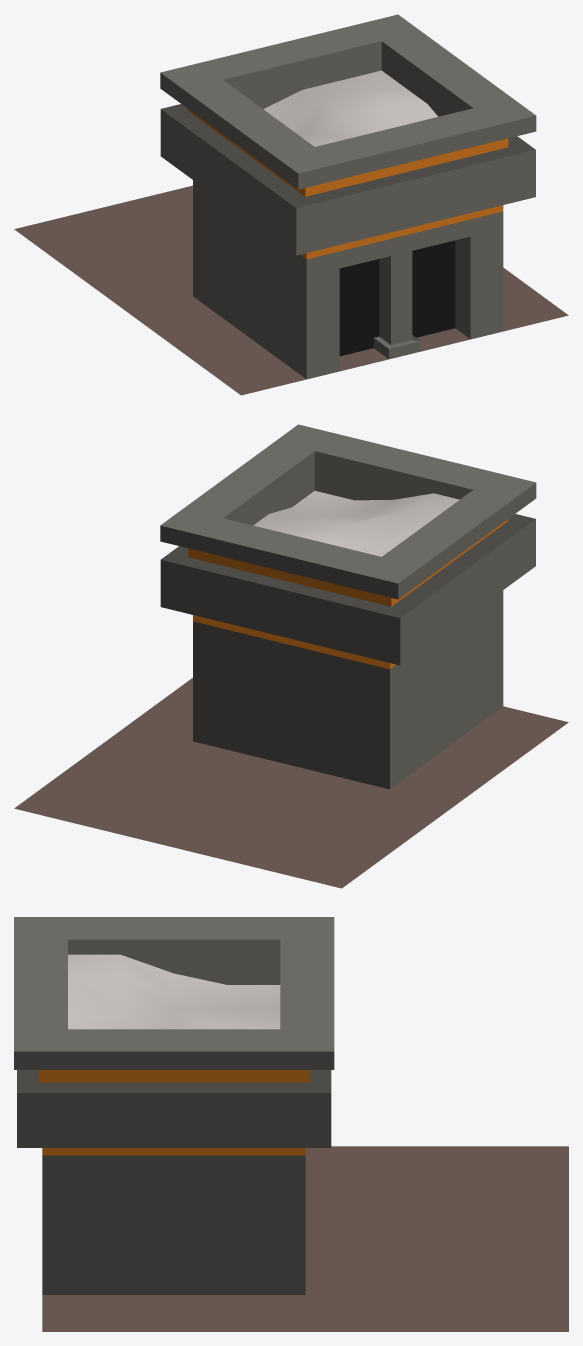
Rendered from Deboner-lvl001.fbx.
3 views of the same model, one above another, from view 1: azimuth 30°, elevation 25°; view 2: azimuth 150°, elevation 25°; view 3: azimuth 270°, elevation 25° (orthographic). The views are drawn at different scales.
Visible parts, largest first — view 1: Deboner; view 2: Deboner; view 3: Deboner.
Part boxes in pixels (x1=…): Deboner: x1=14, y1=14, x2=568, y2=395; Deboner: x1=14, y1=424, x2=568, y2=888; Deboner: x1=14, y1=917, x2=568, y2=1331.
Bounding box in the file's own units: 500 × 320 × 632.
